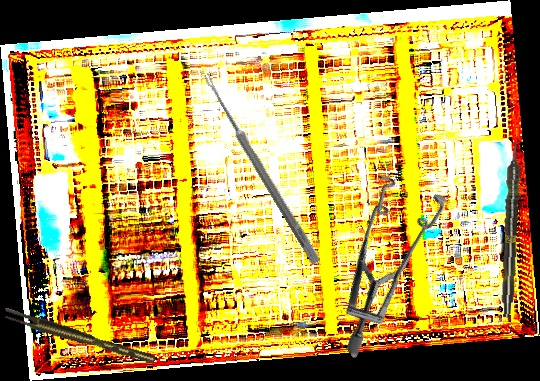Handpiece: (499, 138, 524, 318)
Speculum: (275, 152, 491, 360)
Surgical Spoon: (200, 72, 322, 265)
Tissue Forceps: (2, 302, 156, 372)
